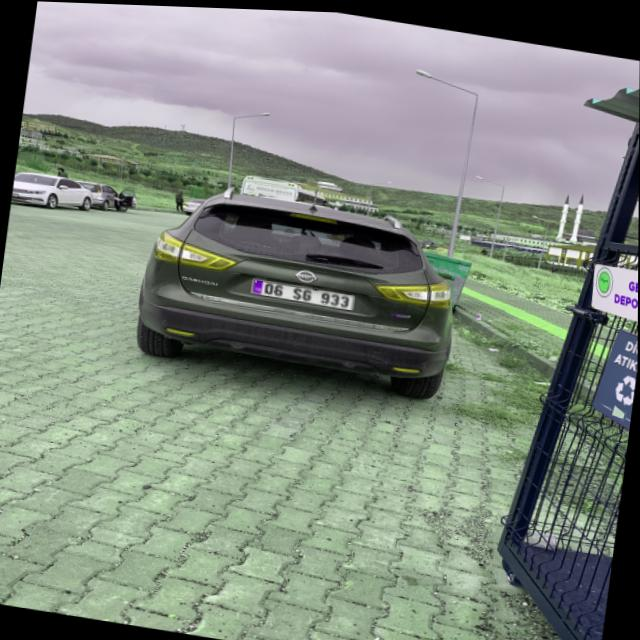license_plate: (250, 278, 355, 307)
